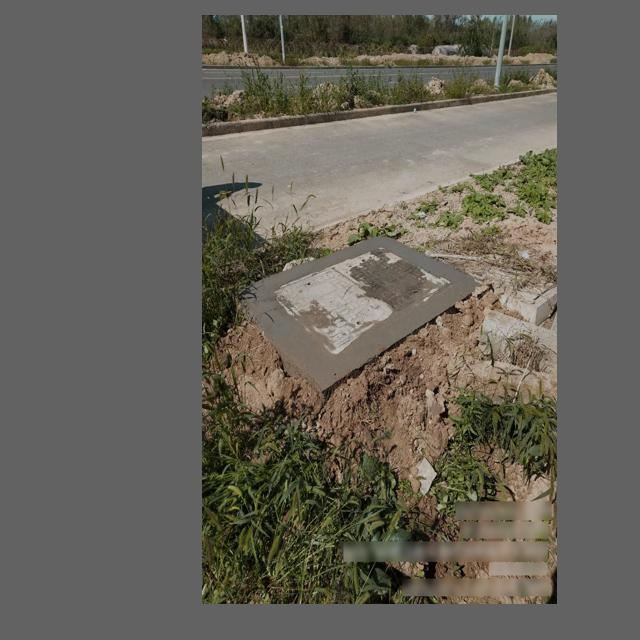good: (271, 244, 457, 360)
